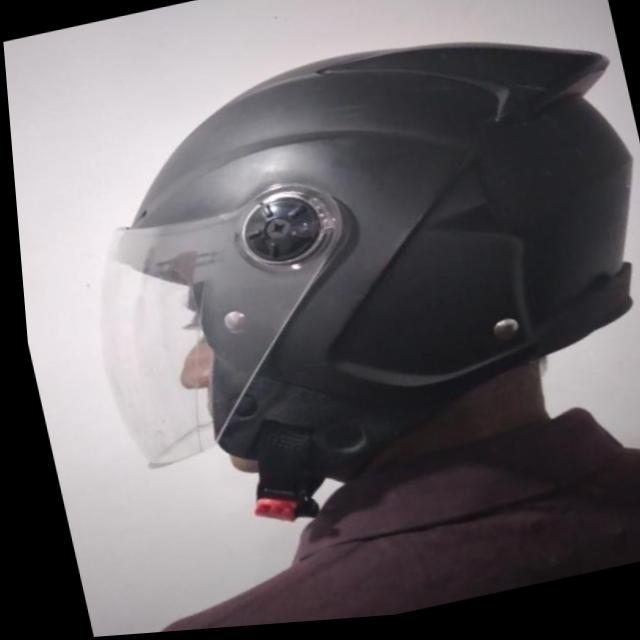helmet: (45, 2, 640, 563)
